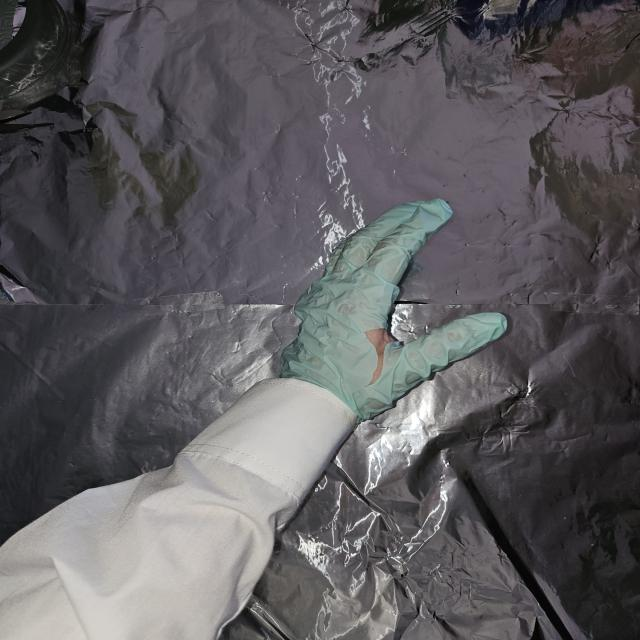gloves_damaged: (275, 197, 510, 424)
